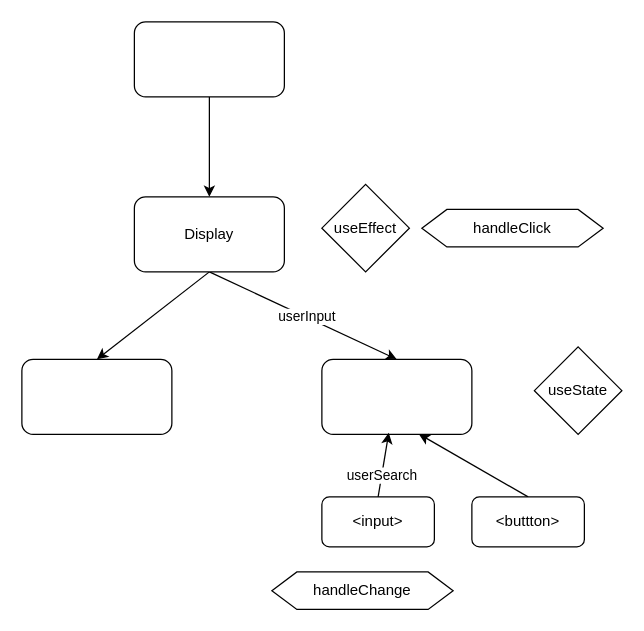
Some shapes in this 644 by 631 pixel diagram are drawn without their labels. The shapes that lost their labels are listed below. From the top down, each one's centre as x and y in pixels, then its label:
At point 208,59: "App".
At point 96,396: "<p>".
At point 396,396: "Input".
